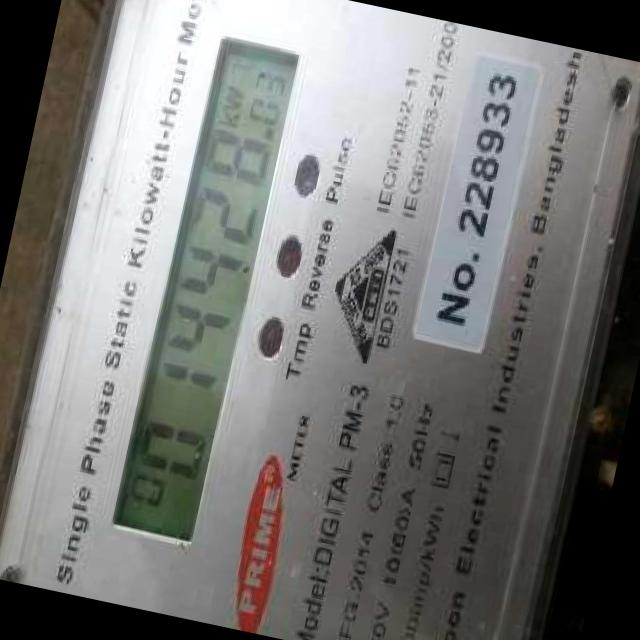LCD: (98, 17, 310, 555)
